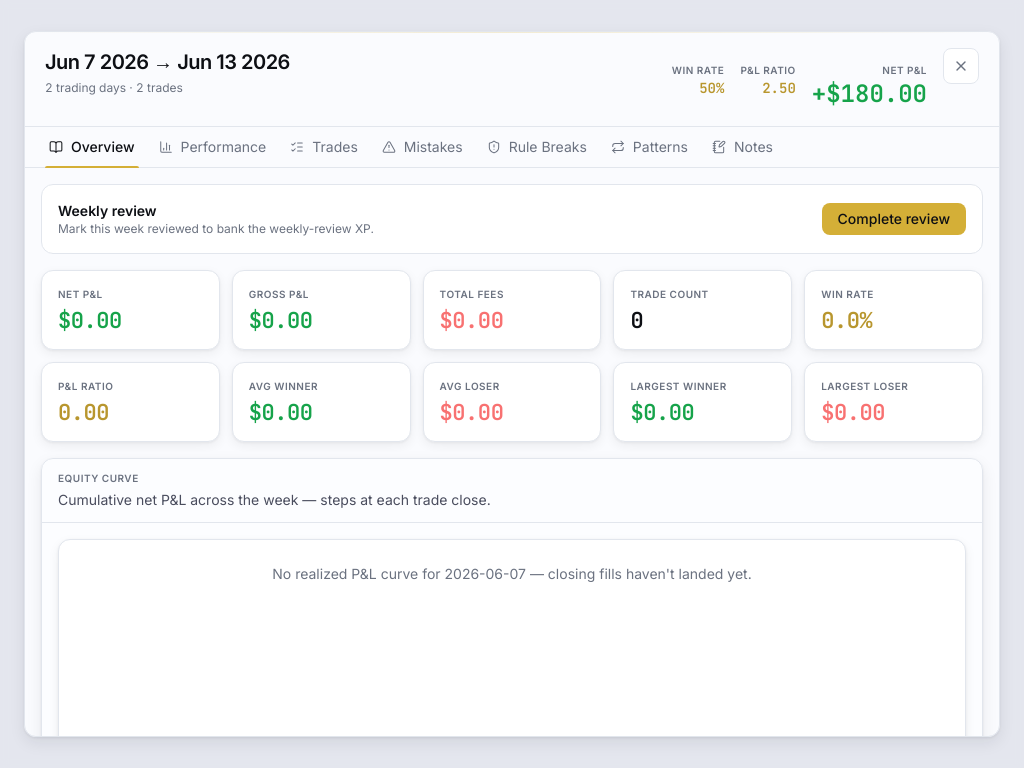
Test case: AQ the rule breaks tab › AQ1 the WEEK tab renders a row per label with days, net, average and green rate
Click the tab "Rule Breaks" at point(537, 147), box [475, 127, 599, 167]
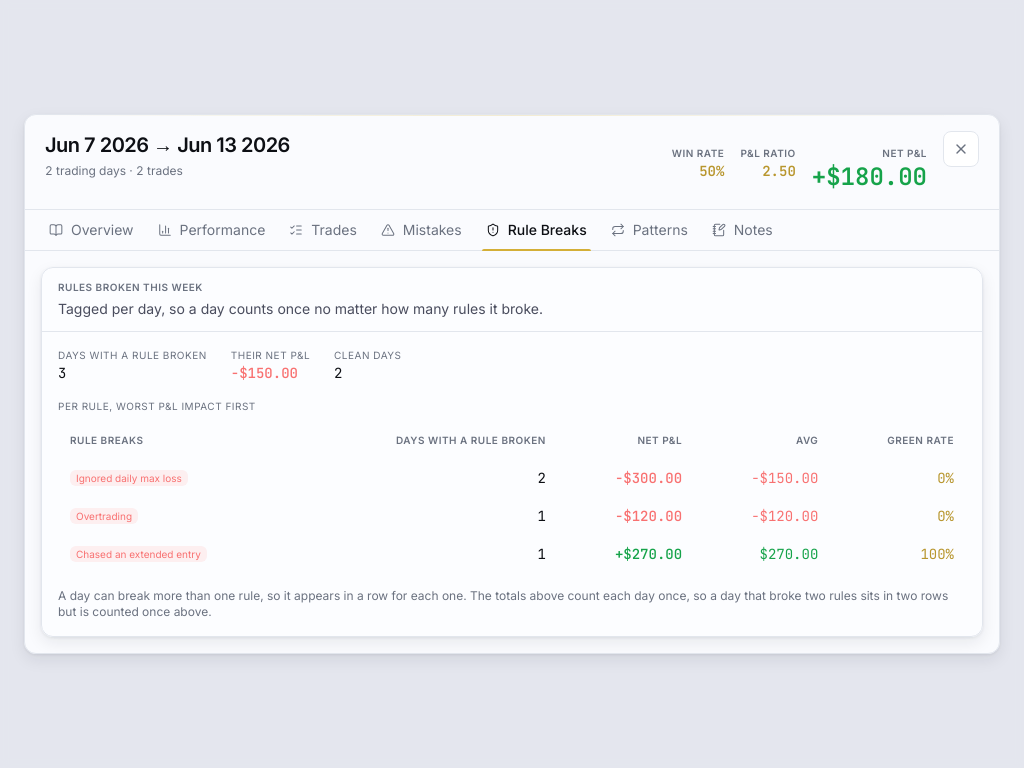
expect the text "Rules broken this week" is shown: met, box [58, 281, 203, 293]
